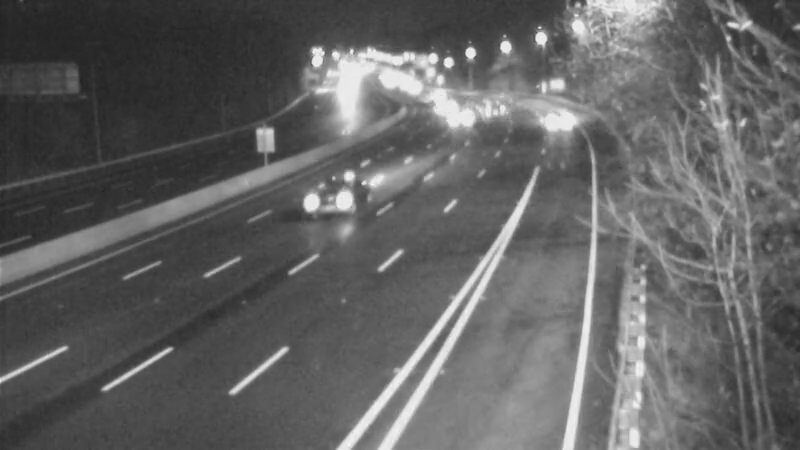vehicle: (302, 158, 382, 238), (400, 71, 450, 121), (419, 84, 469, 134), (472, 79, 522, 129), (528, 95, 578, 145), (435, 96, 485, 146)
